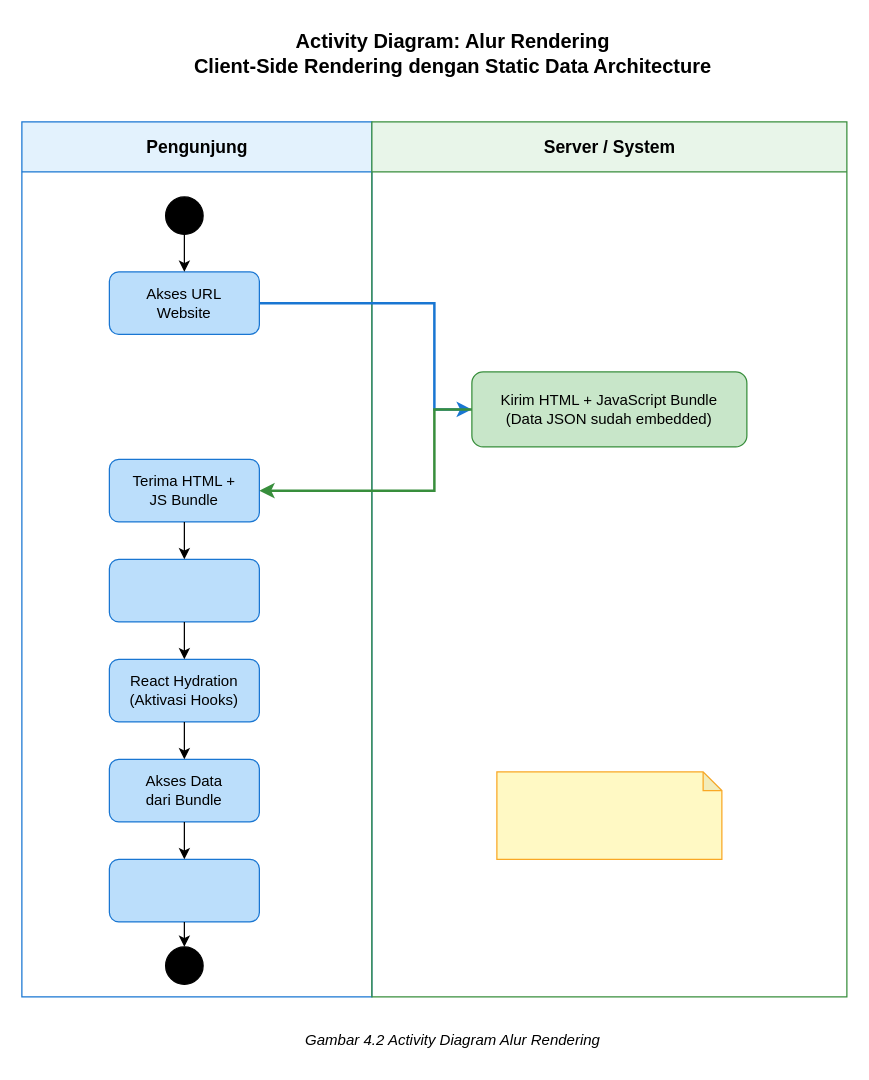
This 869x1080 diagram has some shape labels left out. The shapes that lost their labels are listed below. From the top down, each one's centre as x and y in pixels, then its label:
At (x=183, y=590): "Browser Parse JavaScript".
At (x=609, y=815): "✓ No HTTP Request ✓ Zero Latency ✓ Data Instant".
At (x=183, y=890): "Render Komponen ke Layar".
